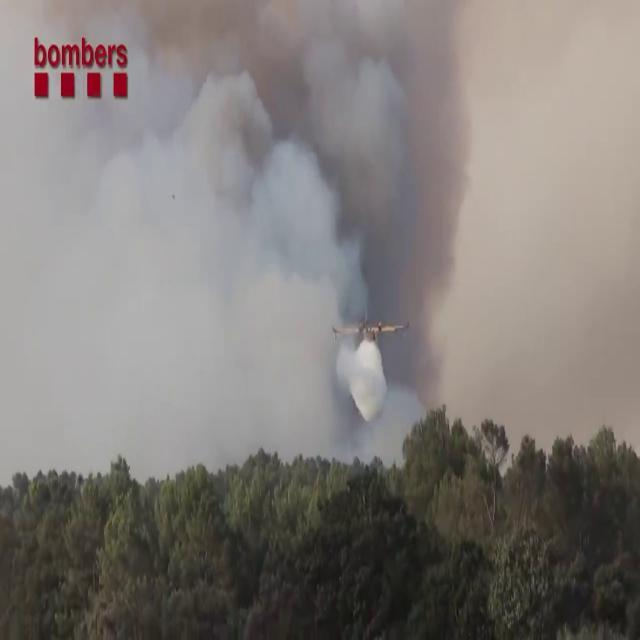Fire: (0, 0, 480, 479)
